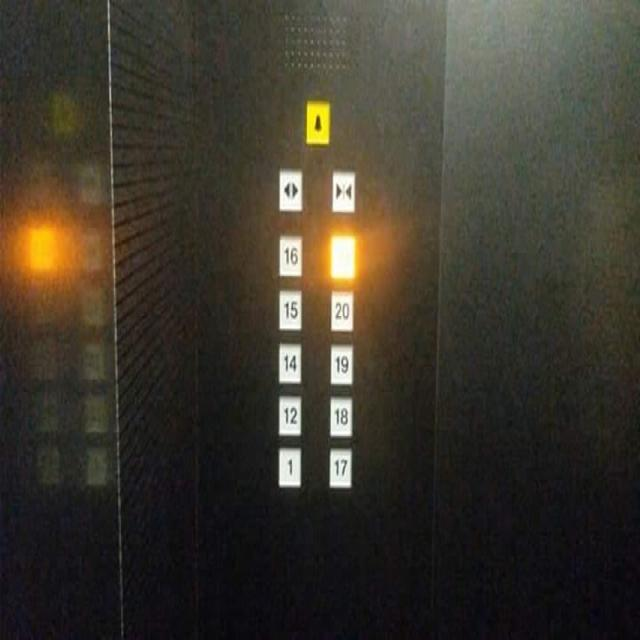1: (276, 445, 302, 487)
12: (277, 392, 301, 436)
14: (276, 341, 301, 384)
15: (278, 287, 302, 328)
16: (278, 232, 302, 276)
17: (327, 444, 353, 487)
18: (328, 393, 352, 438)
19: (328, 341, 352, 384)
20: (328, 286, 354, 331)
alarm: (304, 97, 330, 147)
close: (332, 169, 355, 212)
empty: (329, 234, 355, 278)
open: (277, 165, 303, 212)
